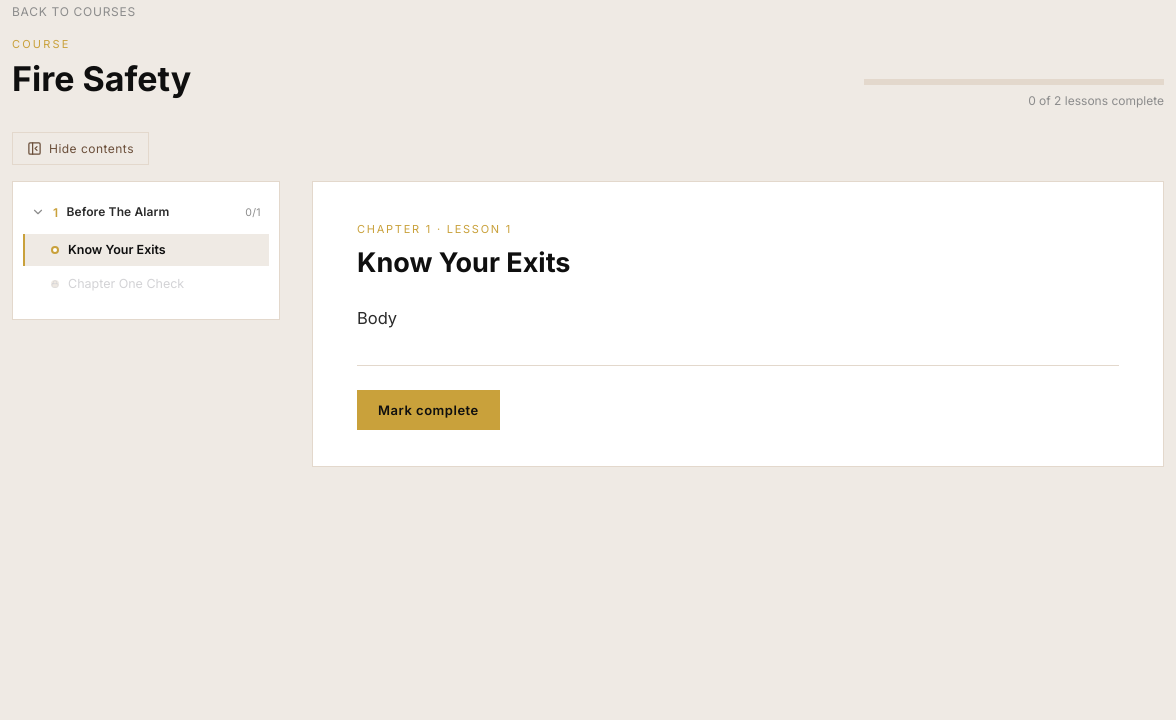
completing a lesson › hands off to the chapter quiz rather than opening it
Check: the heading "Know Your Exits" is shown, box 357,246 -> 570,279
Click the button "Mark complete" at (428, 410), box 357,390 -> 500,430
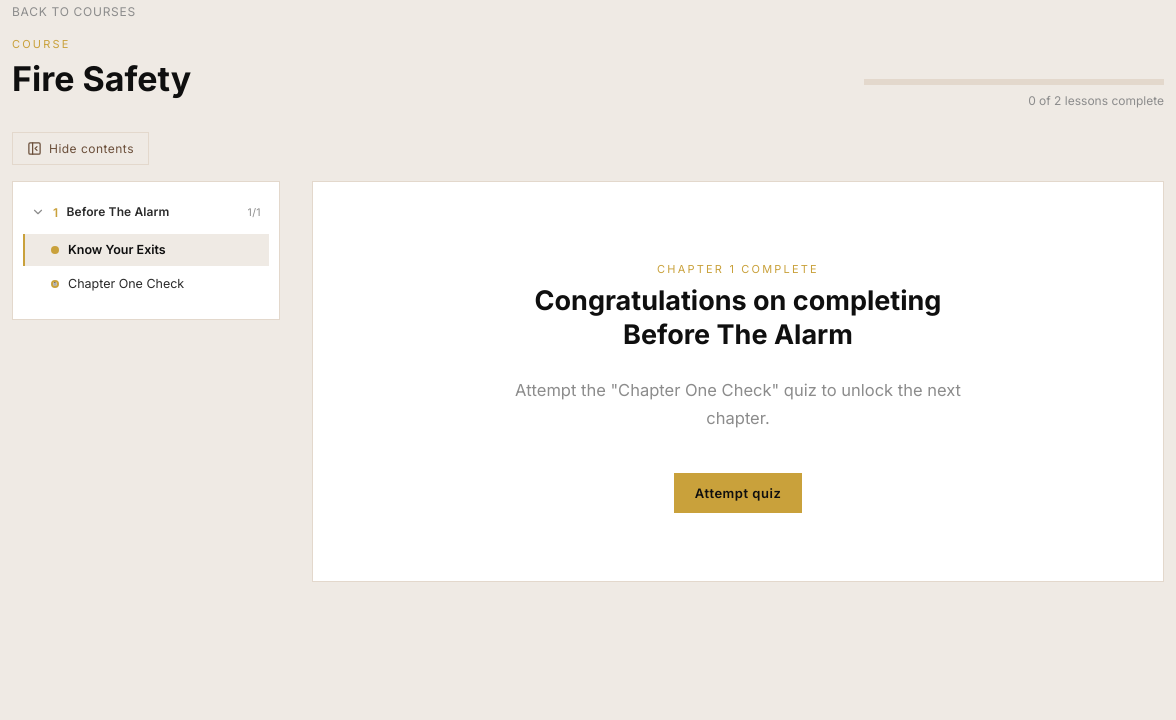
Check: the heading "Congratulations on completing Before The Alarm" is shown, box 506,284 -> 970,352
Check: the button "Attempt quiz" is shown, box 674,473 -> 802,513
